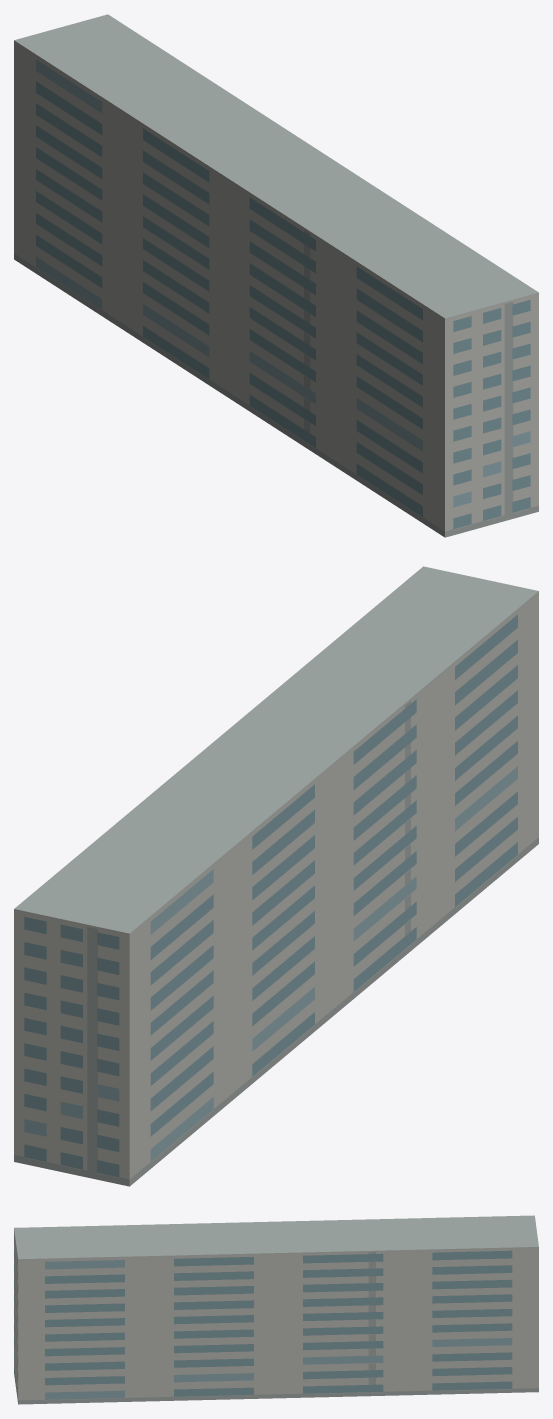
The model's file is residential-099e4acc-f6e0-4153-8d41-8b5886e12005.glb.
3 renders of one model, top to bottom at view 1: azimuth 30°, elevation 25°; view 2: azimuth 150°, elevation 25°; view 3: azimuth 270°, elevation 25°, orthographic. The views are drawn at different scales.
Parts seen in each view (by area): view 1: residential-099e4acc-f6e0-4153-8d41-8b5886e12005.tmp; view 2: residential-099e4acc-f6e0-4153-8d41-8b5886e12005.tmp; view 3: residential-099e4acc-f6e0-4153-8d41-8b5886e12005.tmp.
Part boxes in pixels (x1=…): residential-099e4acc-f6e0-4153-8d41-8b5886e12005.tmp: x1=14, y1=14, x2=538, y2=537; residential-099e4acc-f6e0-4153-8d41-8b5886e12005.tmp: x1=14, y1=566, x2=538, y2=1186; residential-099e4acc-f6e0-4153-8d41-8b5886e12005.tmp: x1=14, y1=1215, x2=538, y2=1404.
Size of the model in its own units: 16.8 by 26 by 85.15.
